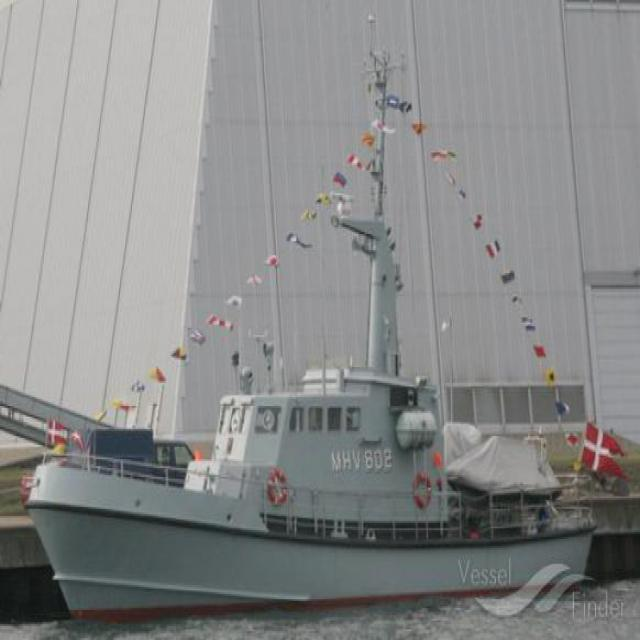OCR: (326, 441, 392, 474)
